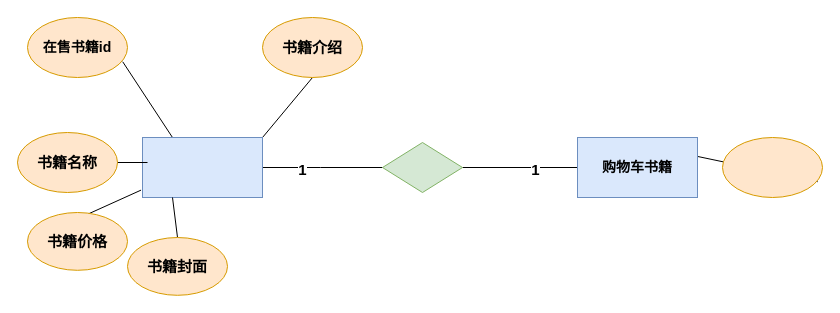
Image size: 840x313. Some labels were removed from this diagram. The centre of each missing label's shape, as x and y in pixels:
"在售书籍" belongs at (x=202, y=167).
"对应" belongs at (x=422, y=167).
"购物车书籍id" belongs at (x=772, y=167).
